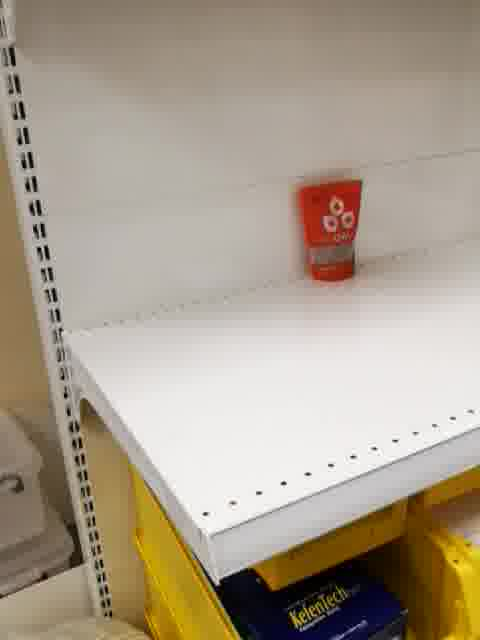whitechia: (295, 175, 368, 288)
